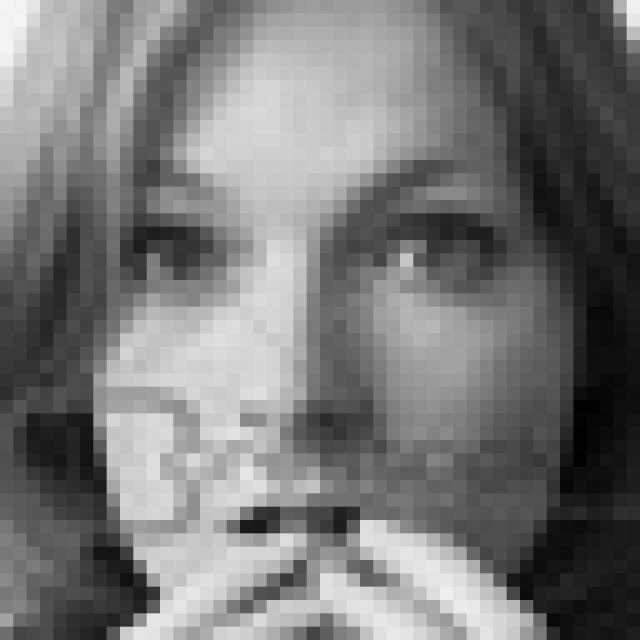fear: (119, 142, 526, 586)
